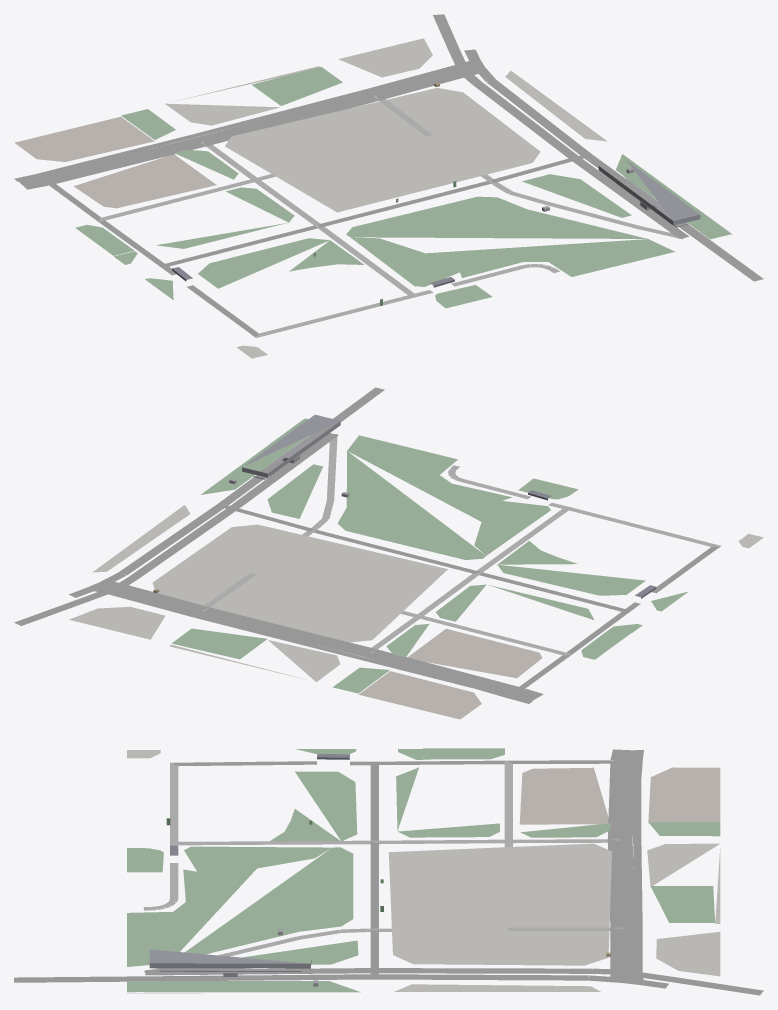
The picture shows the model from 3 angles, top to bottom: view 1: azimuth 30°, elevation 25°; view 2: azimuth 150°, elevation 25°; view 3: azimuth 270°, elevation 25°; orthographic projection. The views are drawn at different scales.
Bounding box in the file's own units: 508 × 24.17 × 632.
